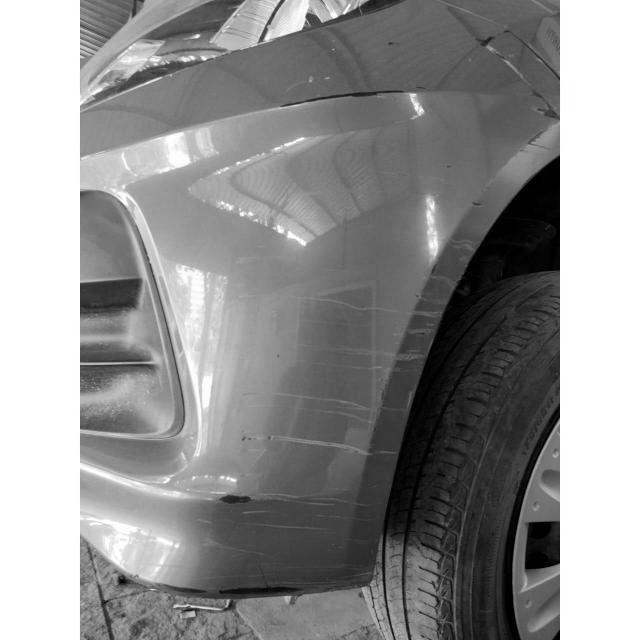front-bumper-dent: (81, 83, 560, 590)
